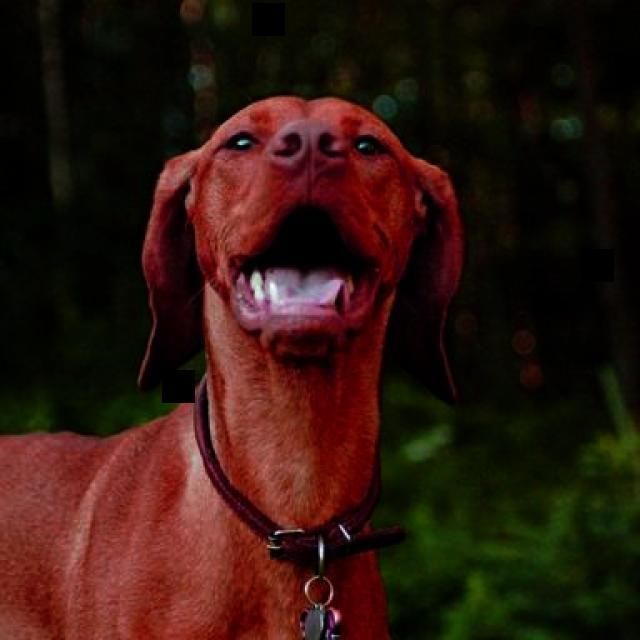adult_dog: (0, 96, 465, 640)
